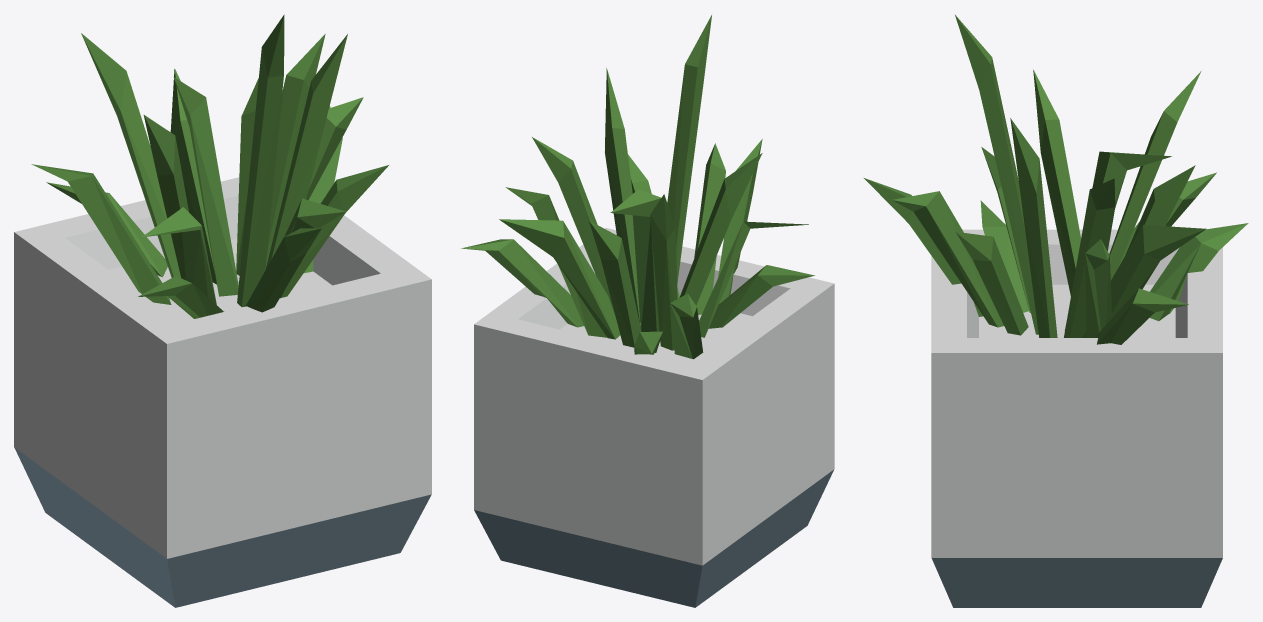
File: Safe_Plant_01.fbx
The picture shows the model from 3 angles, left to right: view 1: azimuth 30°, elevation 25°; view 2: azimuth 150°, elevation 25°; view 3: azimuth 270°, elevation 25°; orthographic projection. The views are drawn at different scales.
Parts seen in each view (by area): view 1: Safe_Plant_01; view 2: Safe_Plant_01; view 3: Safe_Plant_01.
Part boxes in pixels (box(x1,y1,x2,y2)): Safe_Plant_01: box(14, 14, 431, 607); Safe_Plant_01: box(461, 15, 834, 607); Safe_Plant_01: box(864, 15, 1248, 607).
Bounding box in the file's own units: 111 × 200 × 129.
